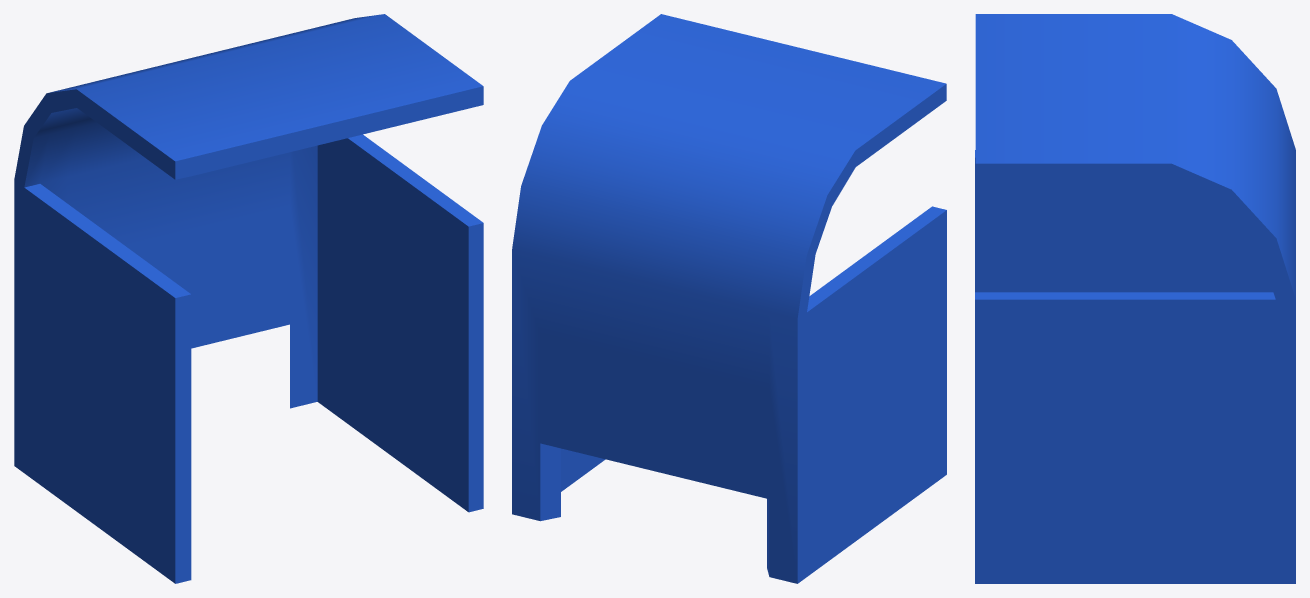
File: Crashers.FBX
The picture shows the model from 3 angles, left to right: view 1: azimuth 30°, elevation 25°; view 2: azimuth 150°, elevation 25°; view 3: azimuth 270°, elevation 25°; orthographic projection. The views are drawn at different scales.
Visible parts, largest first — view 1: Glass4; view 2: Glass4; view 3: Glass4.
Boxes of the visible parts, x1=… form: Glass4: x1=14, y1=14, x2=483, y2=583; Glass4: x1=512, y1=14, x2=946, y2=583; Glass4: x1=975, y1=14, x2=1295, y2=583.
Bounding box in the file's own units: 78.77 × 71.35 × 103.
